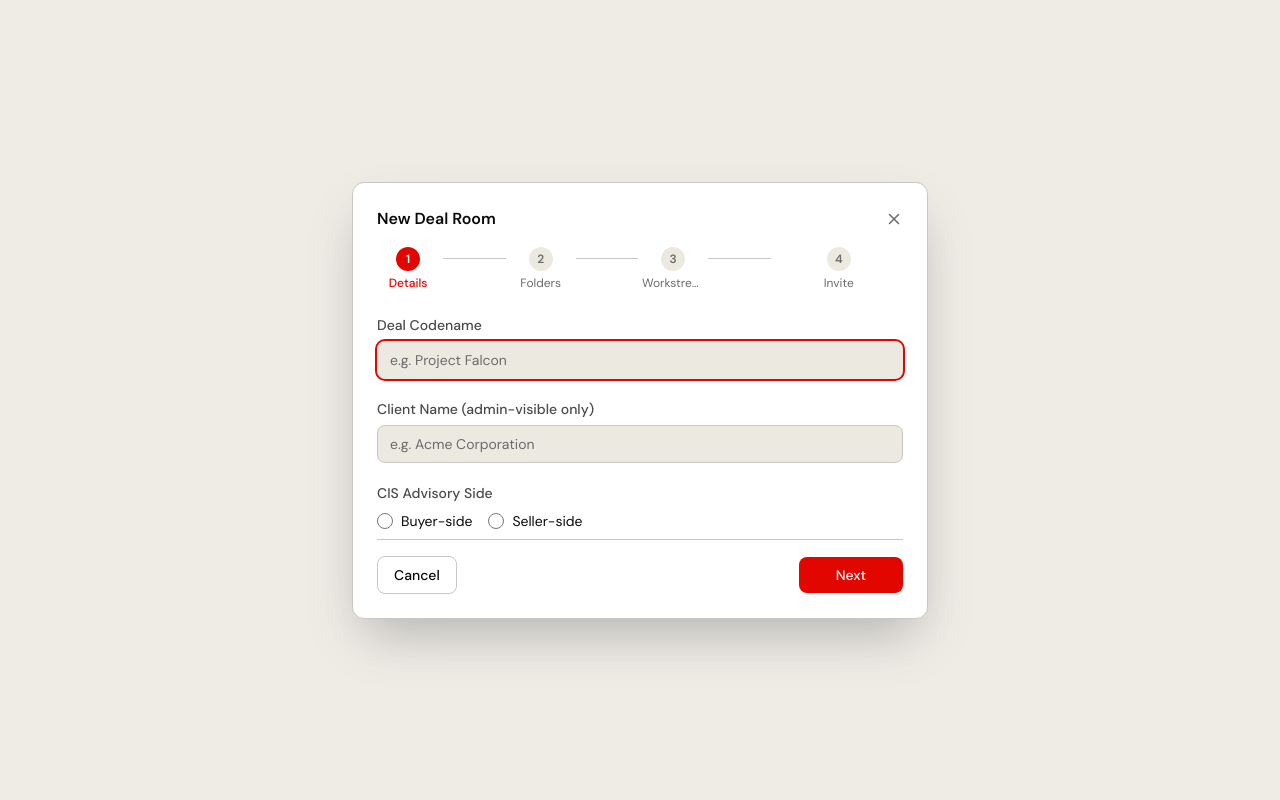
Test: NewDealWizard — Workstreams step › renders 5 workstreams with none checked
The image size is (1280, 800).
In the field labelled "Deal Codename": (640, 360) 377,340 -> 903,378, type "Project Falcon"
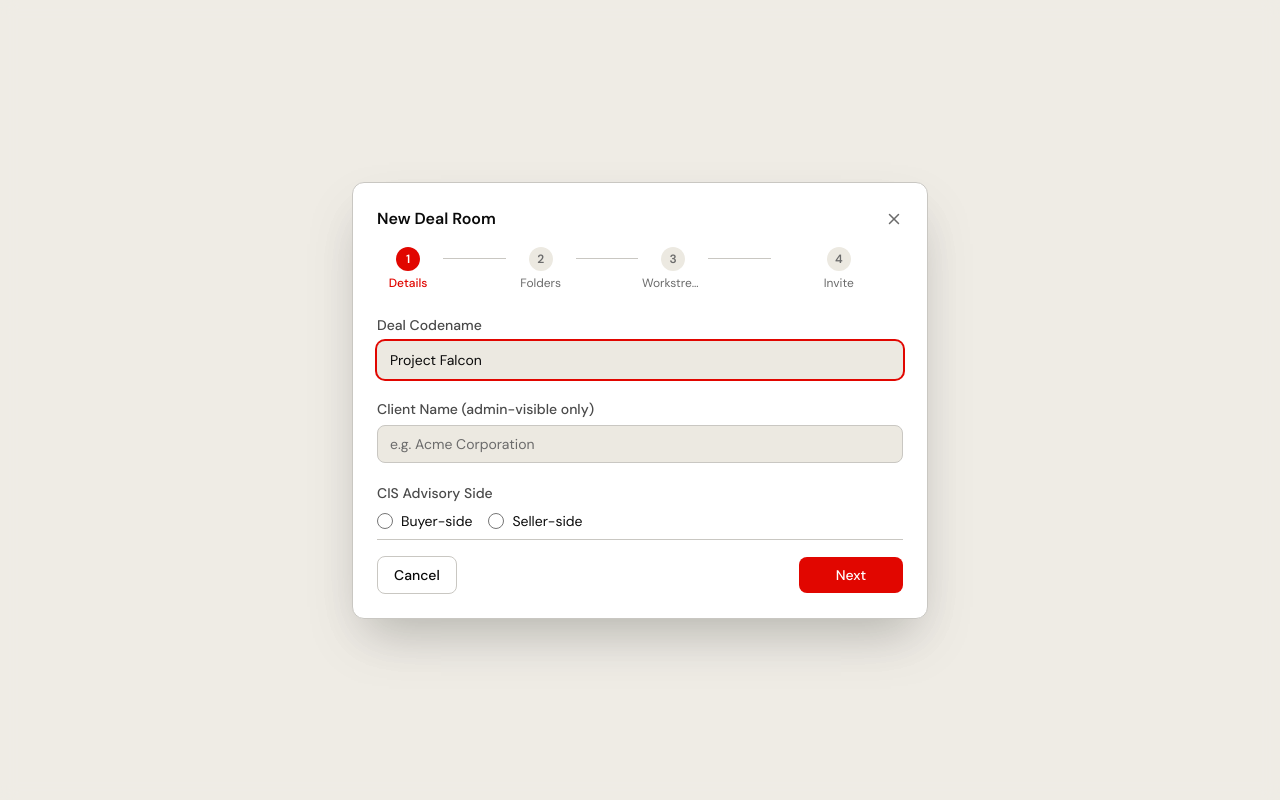
In the field labelled "Client Name (admin-visible only)": (640, 444) 377,424 -> 903,462, type "Acme Corp"
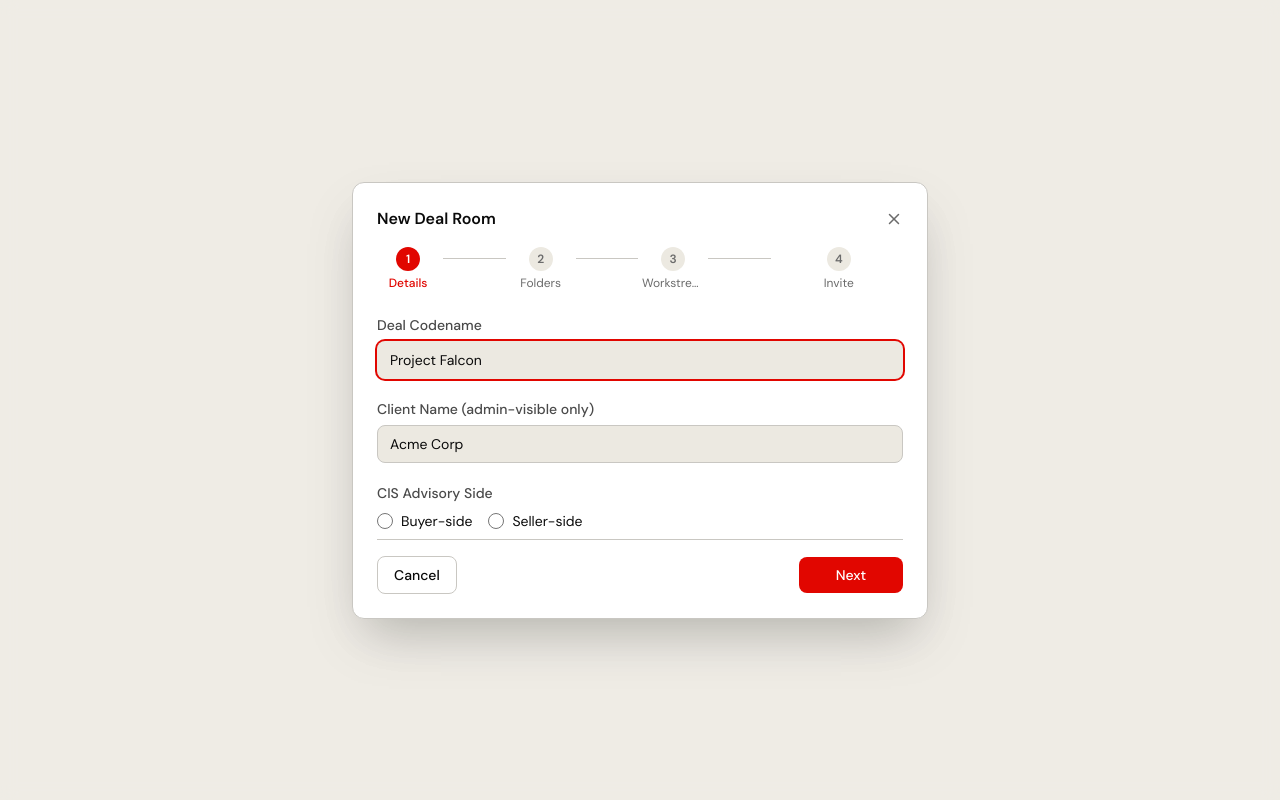
Click the radio button labelled "Seller-side": (496, 520) 488,512 -> 504,528
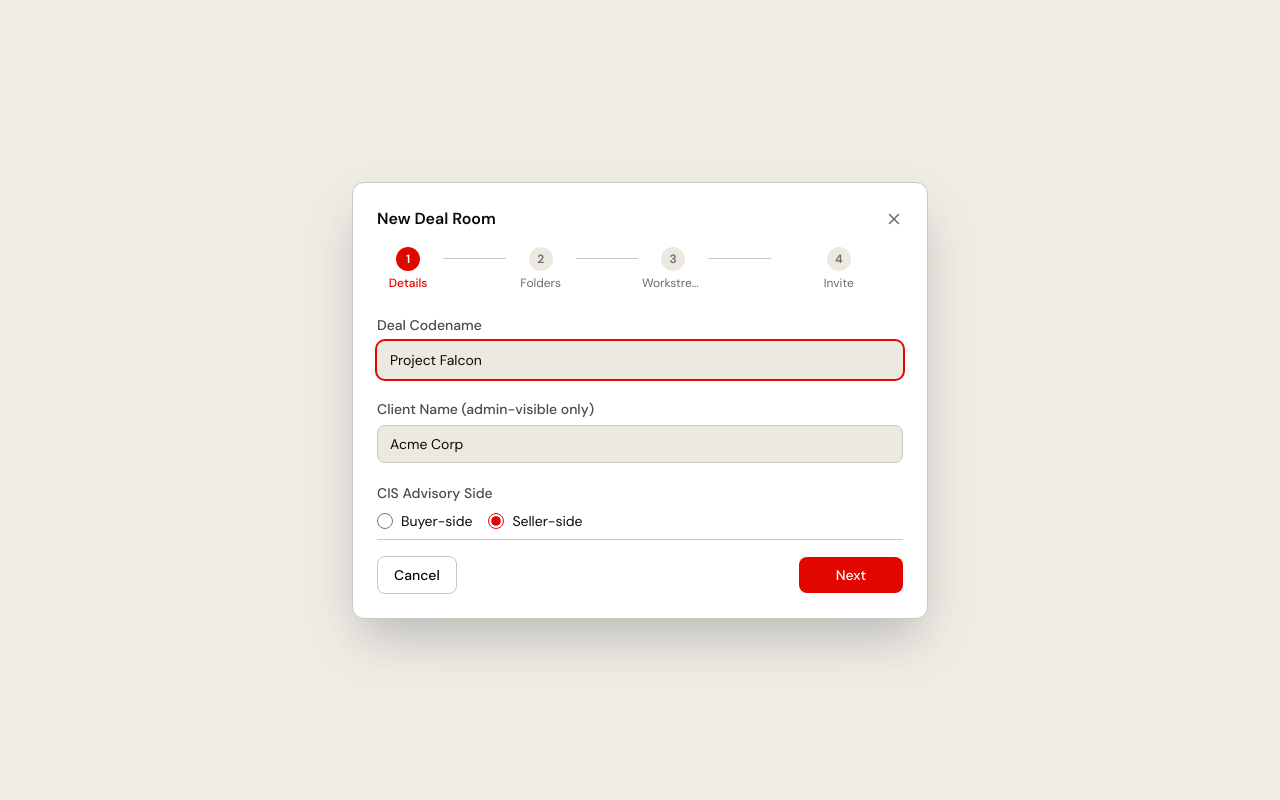
Click the button "Next": (851, 574) 799,556 -> 903,592
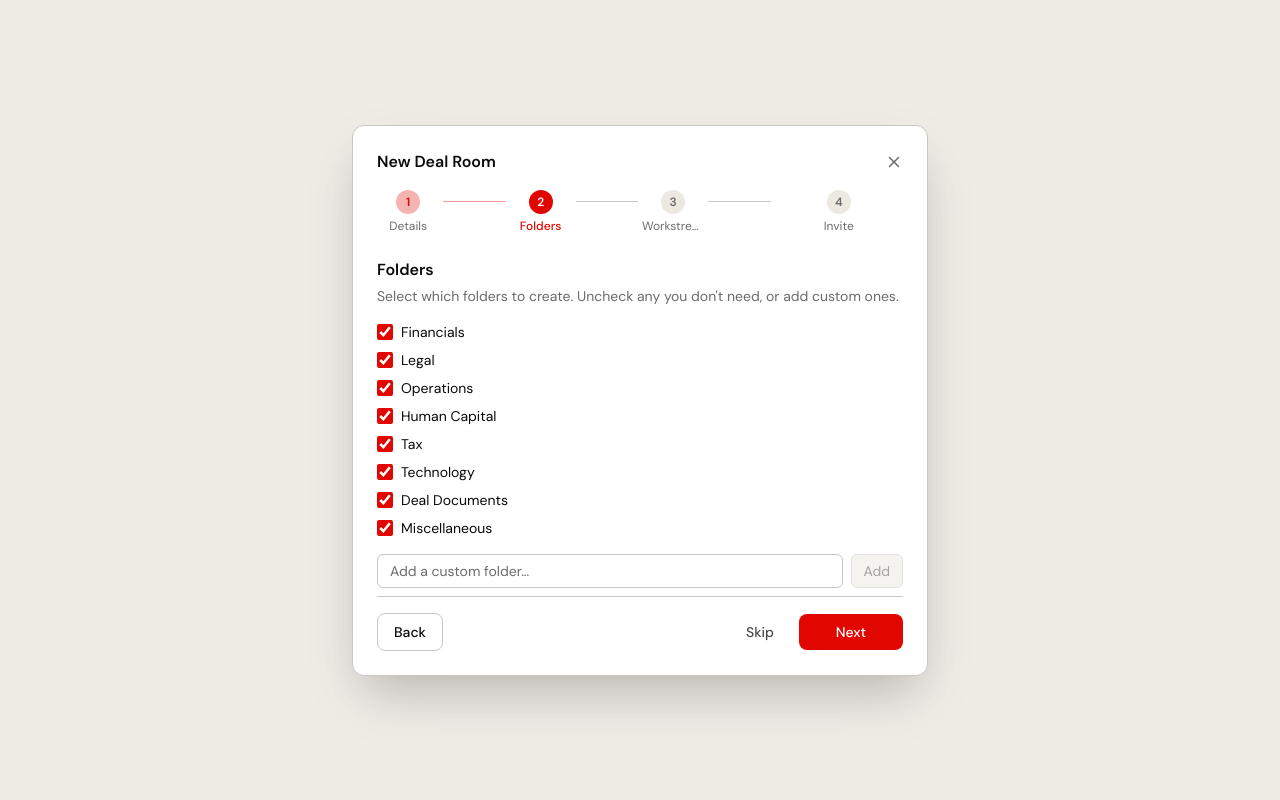
Check: the heading "Folders" is shown, box 377,258 -> 434,280
Click the button "Next": (851, 632) 799,614 -> 903,650
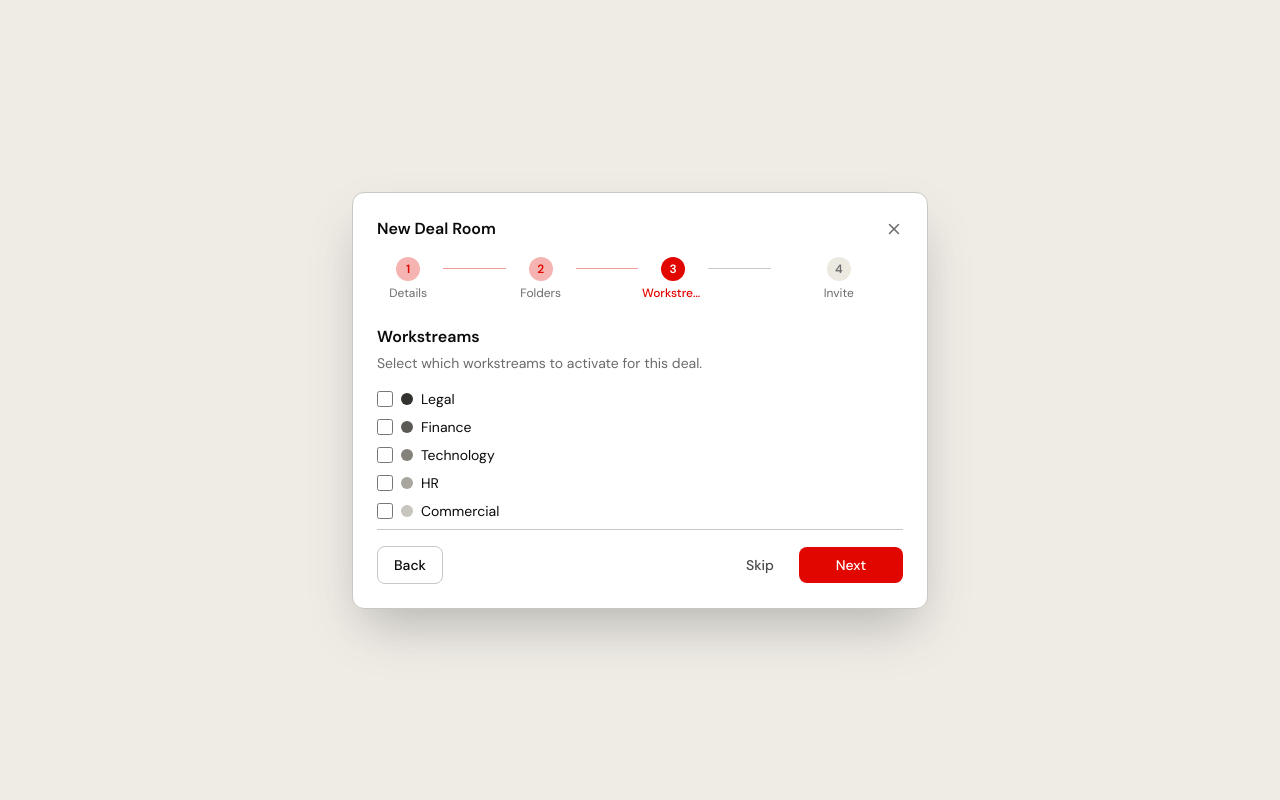
Check: the heading "Workstreams" is shown, box 377,326 -> 480,346
Check: the number of checkboxes is 5, box 377,390 -> 393,406; 377,418 -> 393,434; 377,446 -> 393,462; 377,474 -> 393,490; 377,502 -> 393,518
Check: the checkbox labelled "Legal" is not checked, box 377,390 -> 393,406
